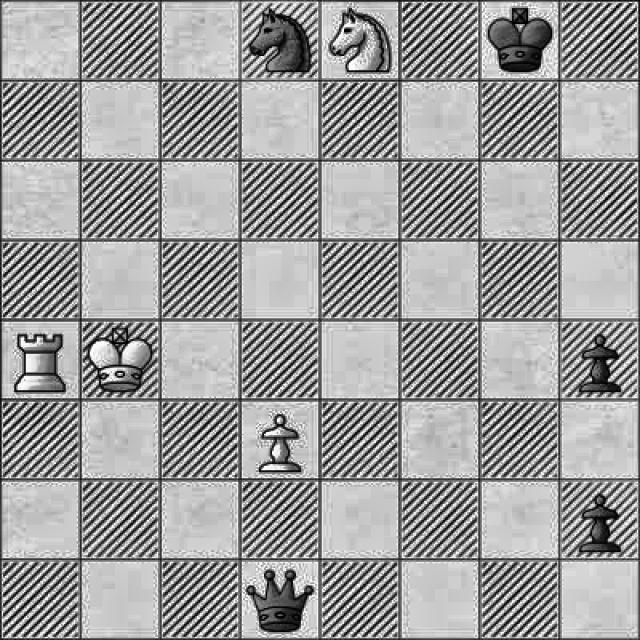Black Knight: (242, 0, 316, 82)
black king: (488, 5, 554, 79)
black pawn: (559, 320, 633, 398), (566, 483, 638, 555)
black queen: (242, 563, 313, 640)
white king: (86, 324, 152, 396)
white pawn: (254, 406, 309, 476)
white rook: (8, 326, 70, 398)
whiteknight: (328, 7, 396, 78)
